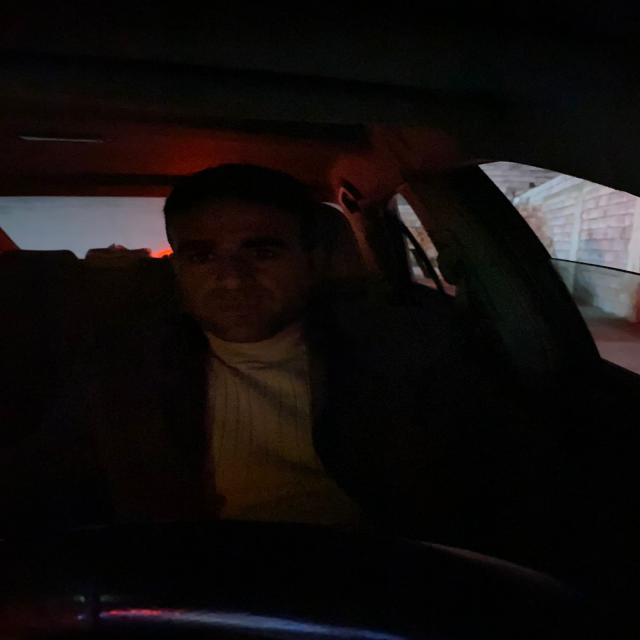person: (154, 156, 332, 344)
